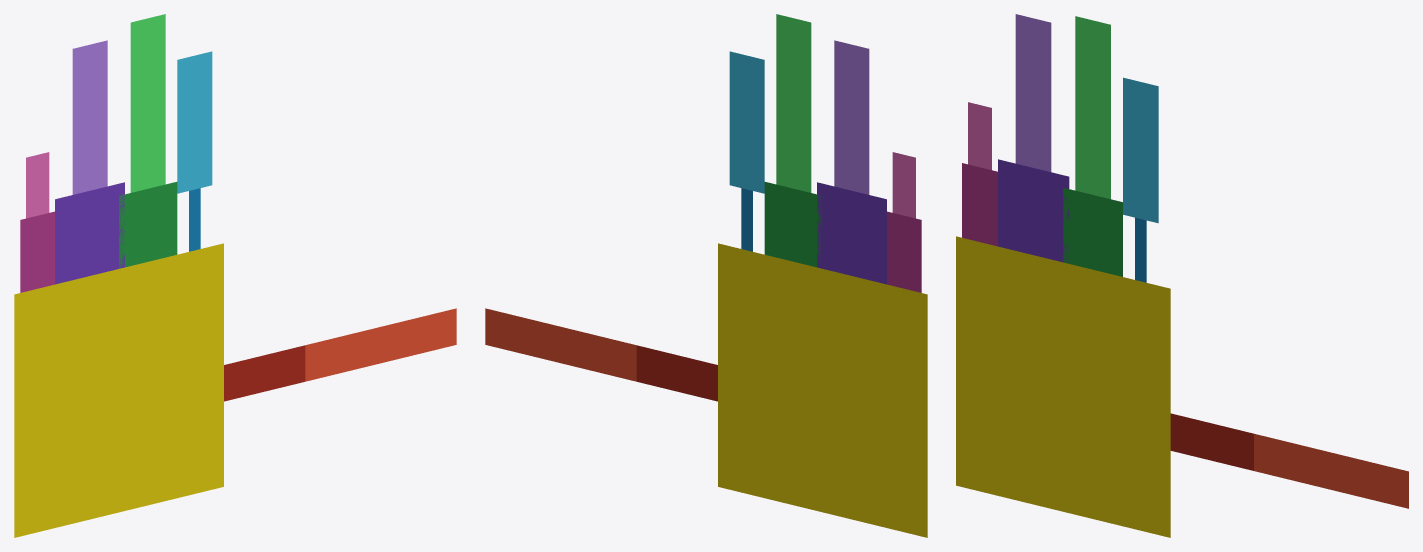
File: hand0423g_forced_square_sensor_layout.obj
3 renders of one model, left to right at view 1: azimuth 30°, elevation 25°; view 2: azimuth 150°, elevation 25°; view 3: azimuth 330°, elevation 25°, orthographic. The views are drawn at different scales.
Parts seen in each view (by area): view 1: palm, middle, ring_connection, thumb, ring, index, middle_connection, thumb_connection, pinky_connection, pinky, index_connection; view 2: palm, middle, ring_connection, thumb, ring, index, middle_connection, thumb_connection, pinky_connection, pinky, index_connection; view 3: palm, middle, ring_connection, thumb, ring, index, middle_connection, thumb_connection, pinky_connection, pinky, index_connection.
Boxes of the visible parts, x1=… form: palm: x1=14, y1=243, x2=223, y2=537; middle: x1=130, y1=14, x2=165, y2=192; ring_connection: x1=55, y1=182, x2=124, y2=284; thumb: x1=305, y1=308, x2=456, y2=381; ring: x1=72, y1=40, x2=107, y2=194; index: x1=177, y1=51, x2=212, y2=193; middle_connection: x1=119, y1=182, x2=177, y2=268; thumb_connection: x1=224, y1=345, x2=305, y2=401; pinky_connection: x1=20, y1=211, x2=54, y2=292; pinky: x1=26, y1=152, x2=49, y2=218; index_connection: x1=189, y1=188, x2=200, y2=251; palm: x1=718, y1=243, x2=927, y2=537; middle: x1=776, y1=14, x2=811, y2=192; ring_connection: x1=817, y1=182, x2=886, y2=284; thumb: x1=485, y1=308, x2=636, y2=381; ring: x1=834, y1=40, x2=869, y2=194; index: x1=729, y1=51, x2=764, y2=193; middle_connection: x1=764, y1=182, x2=822, y2=267; thumb_connection: x1=636, y1=345, x2=717, y2=401; pinky_connection: x1=887, y1=211, x2=921, y2=292; pinky: x1=892, y1=152, x2=915, y2=218; index_connection: x1=741, y1=188, x2=752, y2=251; palm: x1=956, y1=236, x2=1170, y2=537; middle: x1=1075, y1=16, x2=1110, y2=199; ring_connection: x1=998, y1=159, x2=1069, y2=262; thumb: x1=1254, y1=433, x2=1408, y2=508; ring: x1=1015, y1=14, x2=1051, y2=171; index: x1=1123, y1=77, x2=1158, y2=223; middle_connection: x1=1063, y1=187, x2=1122, y2=276; thumb_connection: x1=1170, y1=413, x2=1253, y2=470; pinky_connection: x1=962, y1=163, x2=997, y2=246; pinky: x1=968, y1=102, x2=991, y2=169; index_connection: x1=1135, y1=217, x2=1146, y2=282.
Bounding box in the file's own units: 7.18 × 7.56 × 0.
